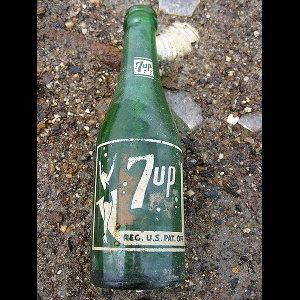emptybottle: (91, 9, 186, 289)
